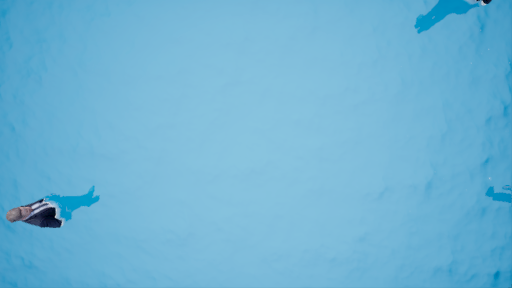person: (8, 189, 106, 232)
